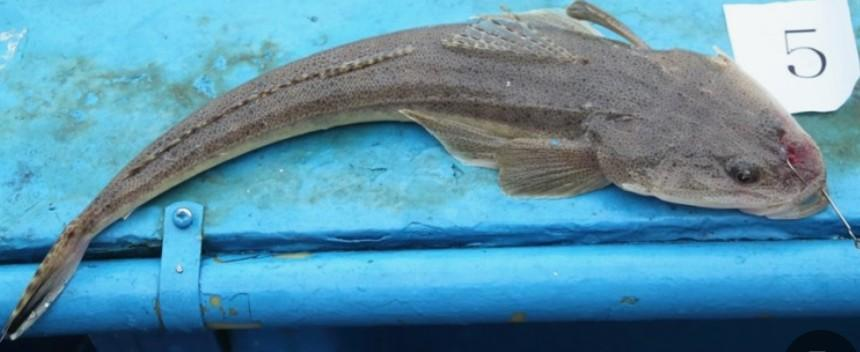fish: (0, 3, 836, 345)
